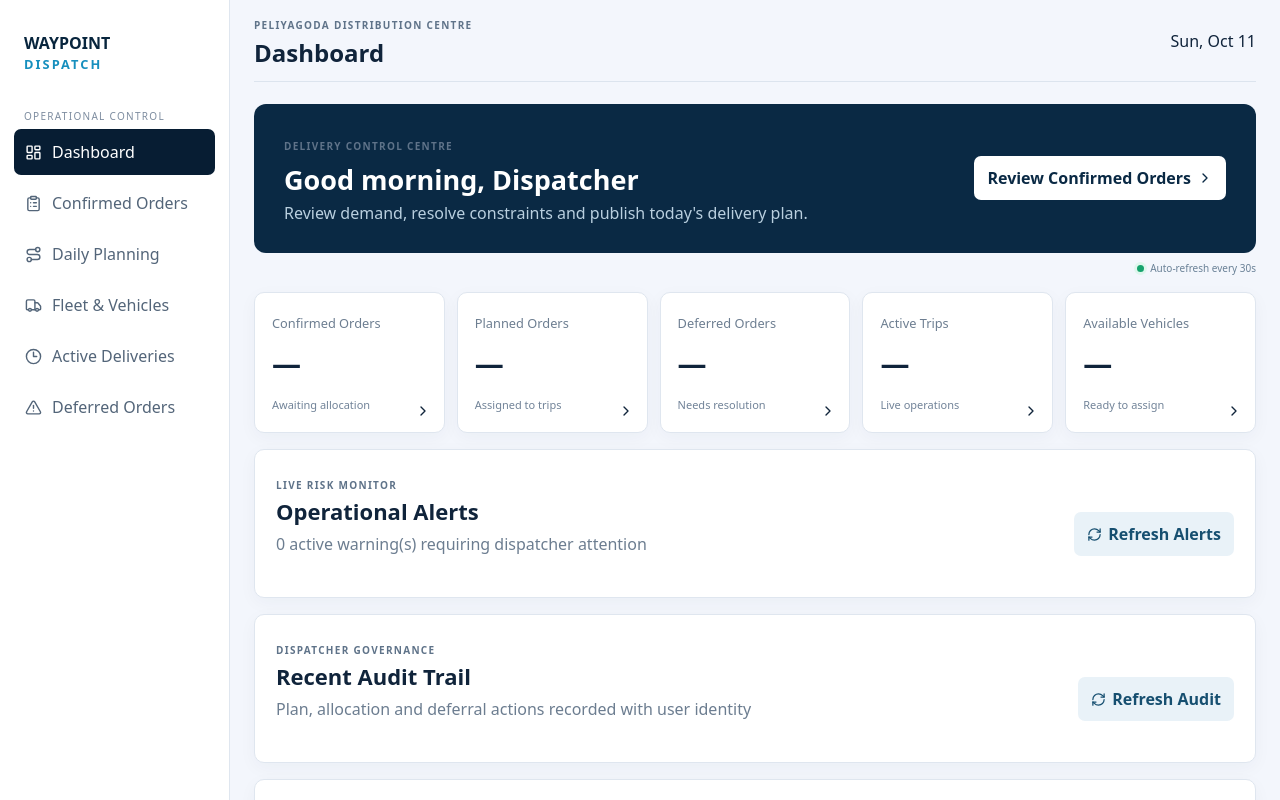
Test: DispatcherPortal › filters confirmed orders and resets the planning filters
Click the button "Confirmed Orders": (114, 203) [14, 180, 215, 226]
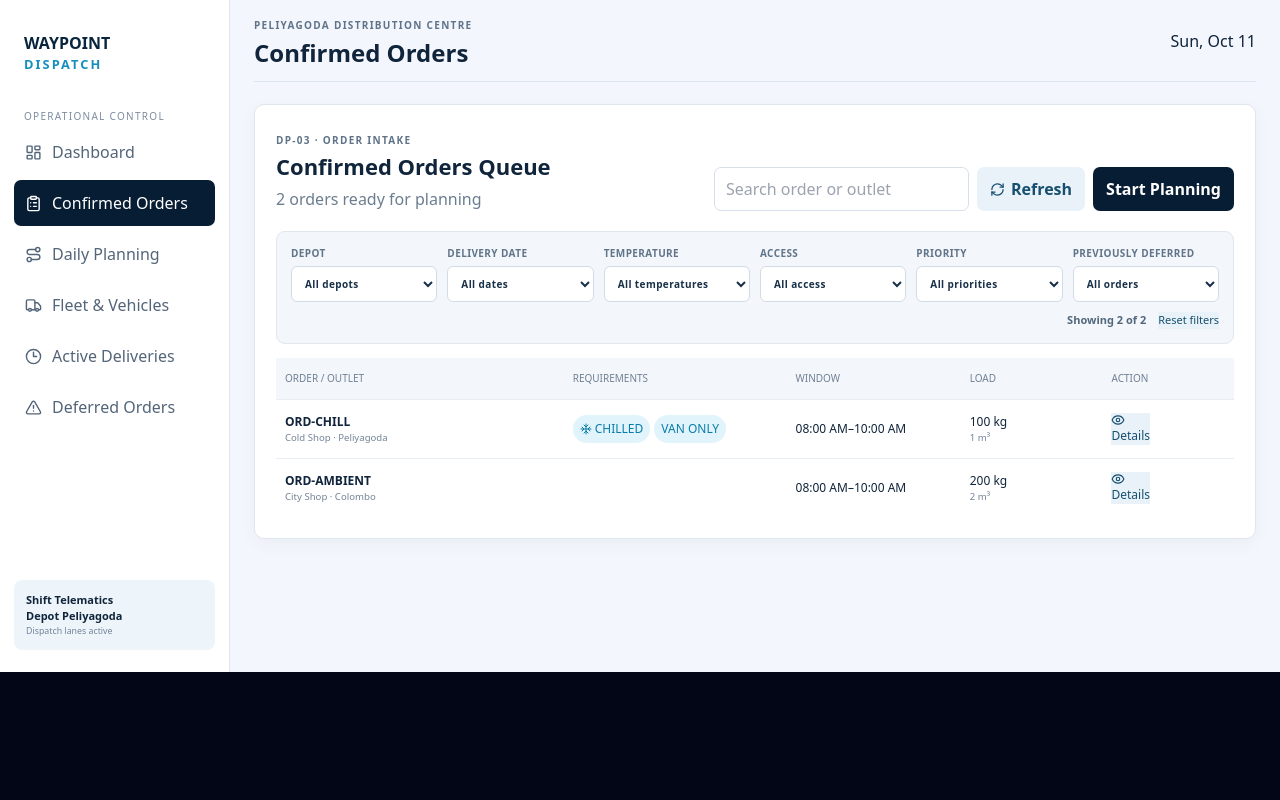
Now the text "ORD-CHILL" is shown, box [285, 412, 350, 430]
Select "CHILLED" in the dropdown named "Filter by temperature": (677, 284) [604, 266, 750, 302]
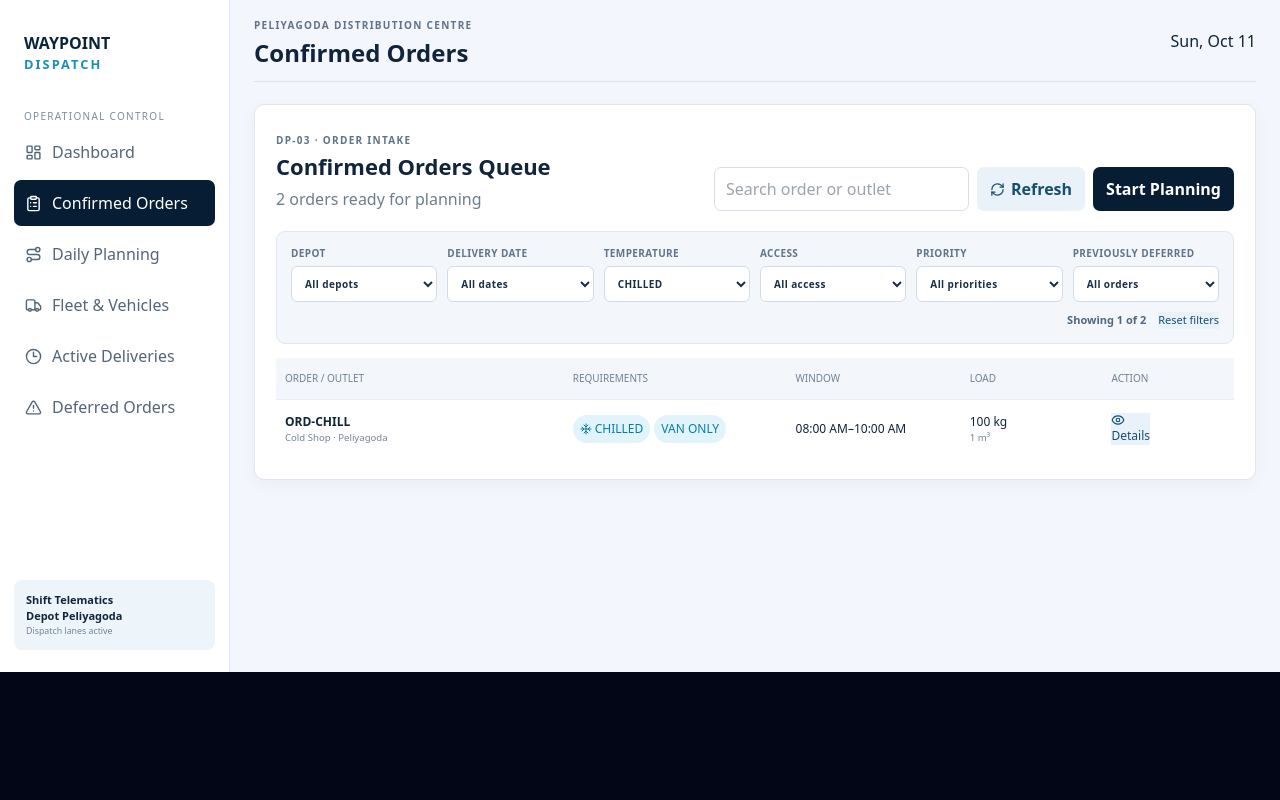
Select "Van only" in the dropdown named "Filter by access": (833, 284) [760, 266, 906, 302]
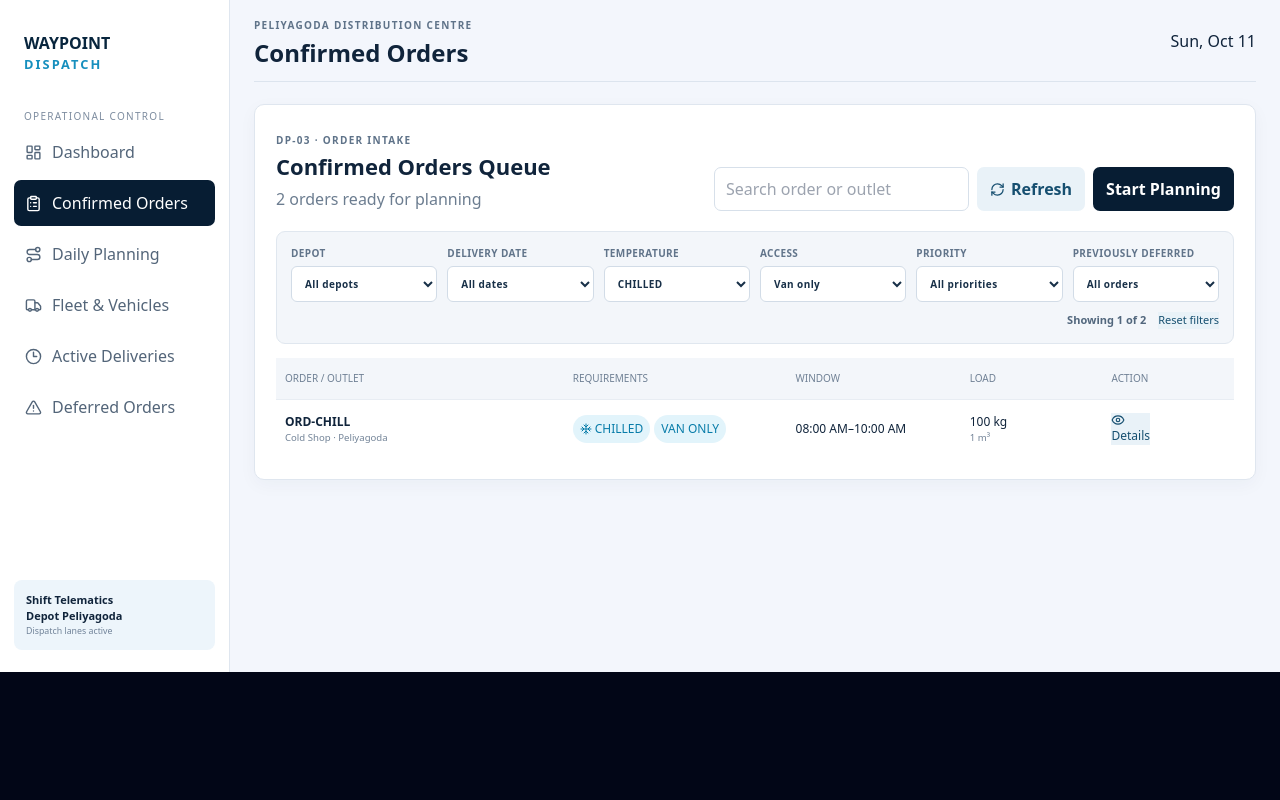
Select "Previously deferred" in the dropdown named "Filter by previous deferral": (1146, 284) [1073, 266, 1219, 302]
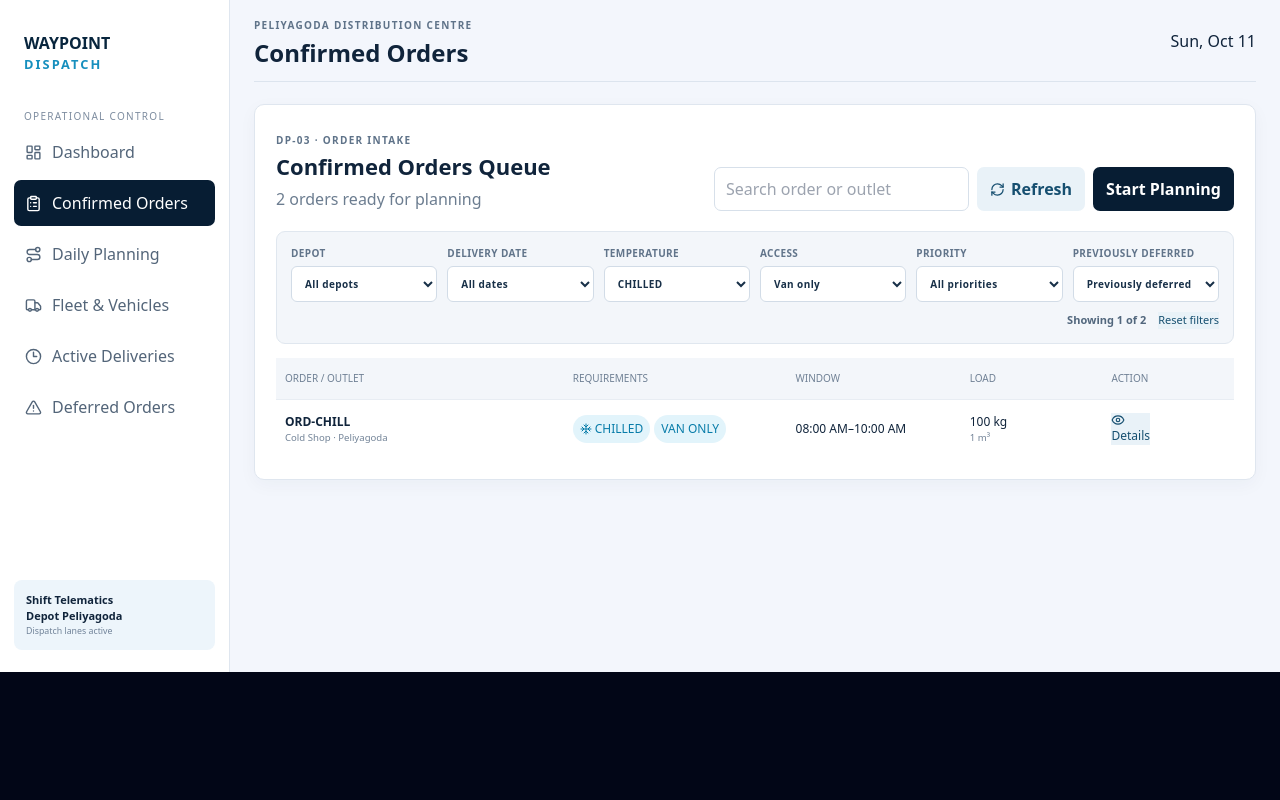
Expected: the text "ORD-AMBIENT" is not shown
Now the text "Showing 1 of 2" is shown, box [1067, 312, 1146, 328]
Click the button "Reset filters": (1189, 320) [1158, 312, 1219, 328]
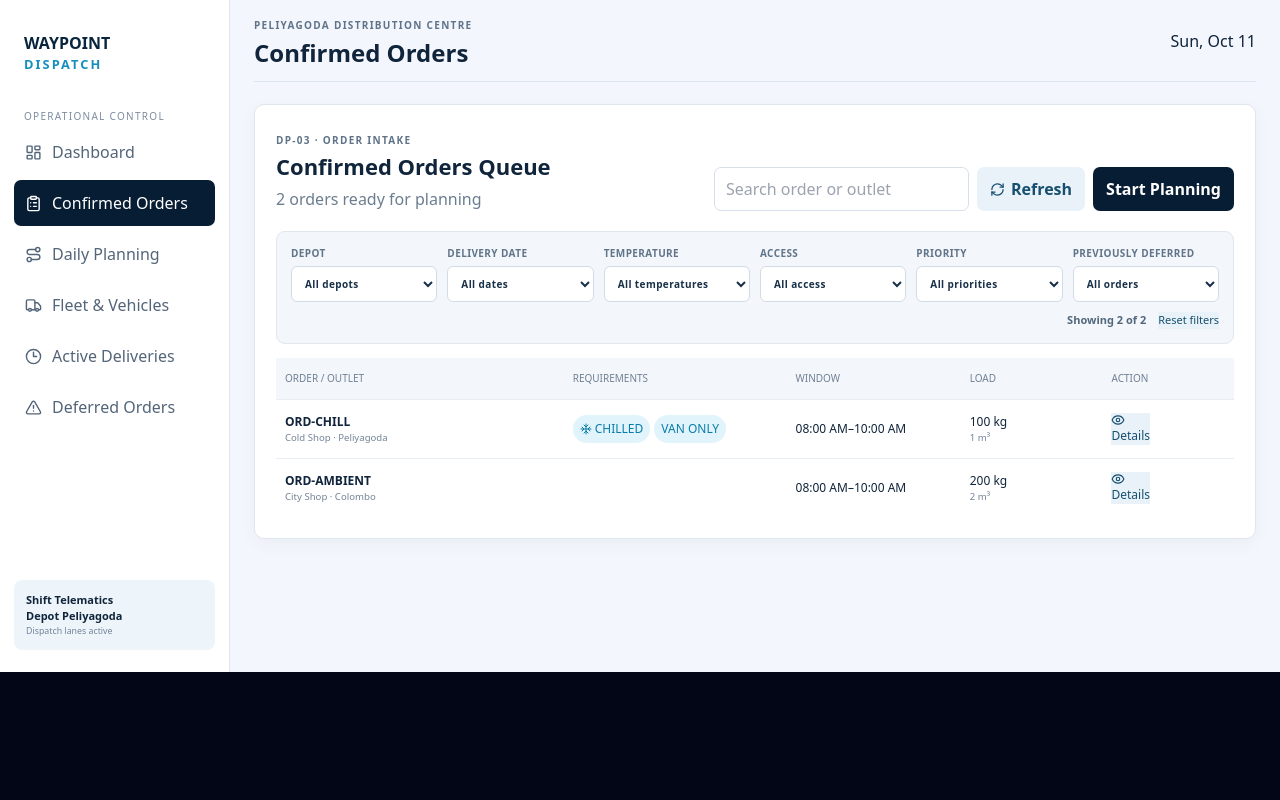
Now the text "Showing 2 of 2" is shown, box [1067, 312, 1146, 328]
Now the text "ORD-AMBIENT" is shown, box [285, 472, 371, 489]
